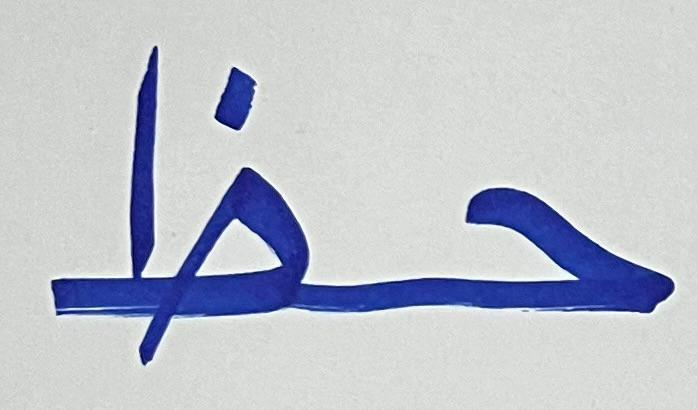hah: (356, 147, 679, 327)
zah: (46, 22, 345, 365)
